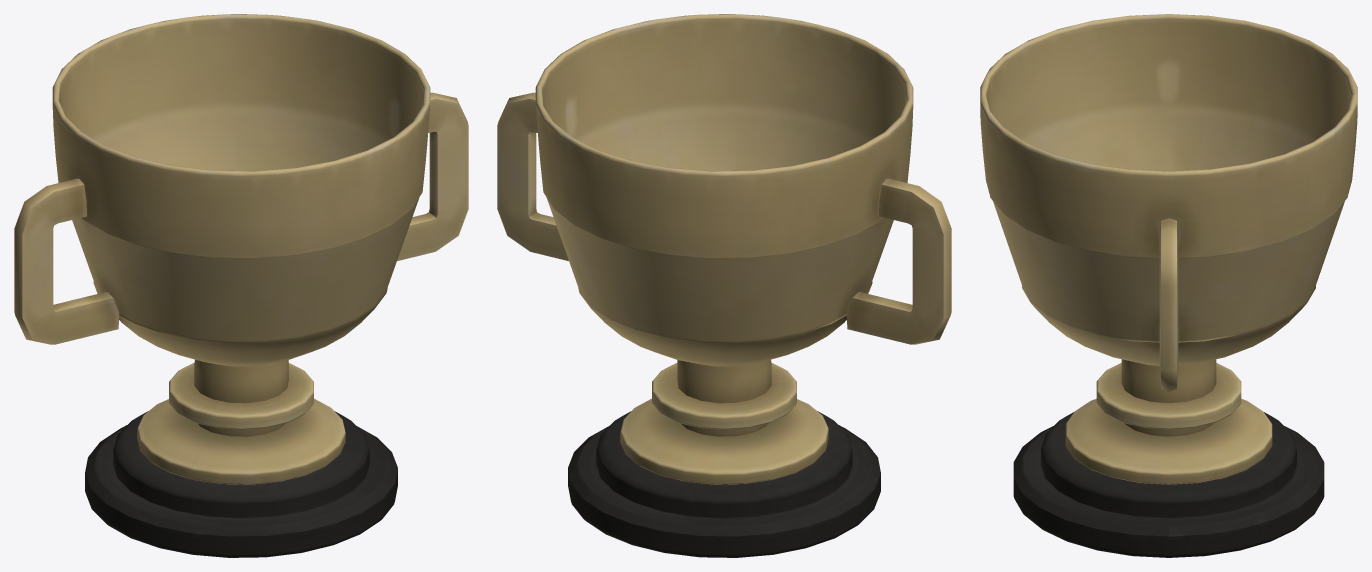
Rendered from trophy-cup-squat.glb.
3 renders of one model, left to right at view 1: azimuth 30°, elevation 25°; view 2: azimuth 150°, elevation 25°; view 3: azimuth 270°, elevation 25°, orthographic.
Parts seen in each view (by area): view 1: cup; view 2: cup; view 3: cup.
Part boxes in pixels (x1,y1,x2,y2): cup: [14, 14, 468, 557]; cup: [497, 14, 951, 557]; cup: [980, 14, 1357, 557].
Bounding box in the file's own units: 0.22 × 0.1866 × 0.1591.
Materials: 1 (1 with a texture image).
